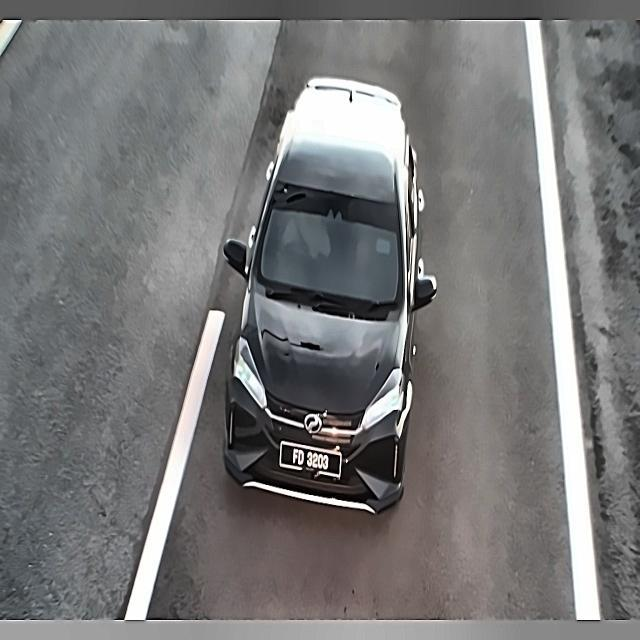car: (281, 437, 345, 483)
